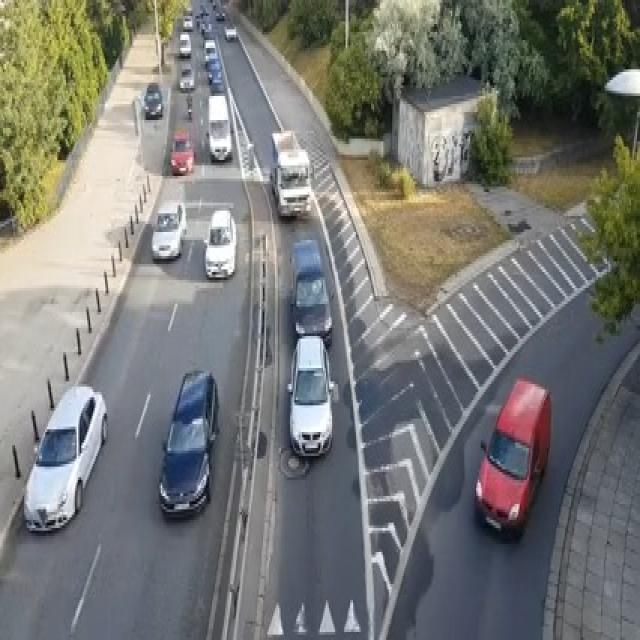bus: (269, 128, 311, 219)
car: (23, 384, 108, 533), (474, 376, 552, 536), (158, 368, 219, 517), (286, 333, 334, 456), (288, 237, 332, 344), (203, 208, 236, 277), (150, 200, 187, 261), (206, 93, 231, 160), (170, 128, 194, 173), (141, 83, 164, 117), (206, 56, 222, 83), (179, 64, 194, 91), (203, 37, 218, 64), (179, 32, 191, 56), (224, 24, 236, 40), (182, 13, 192, 30), (203, 22, 212, 38), (215, 8, 225, 21)
